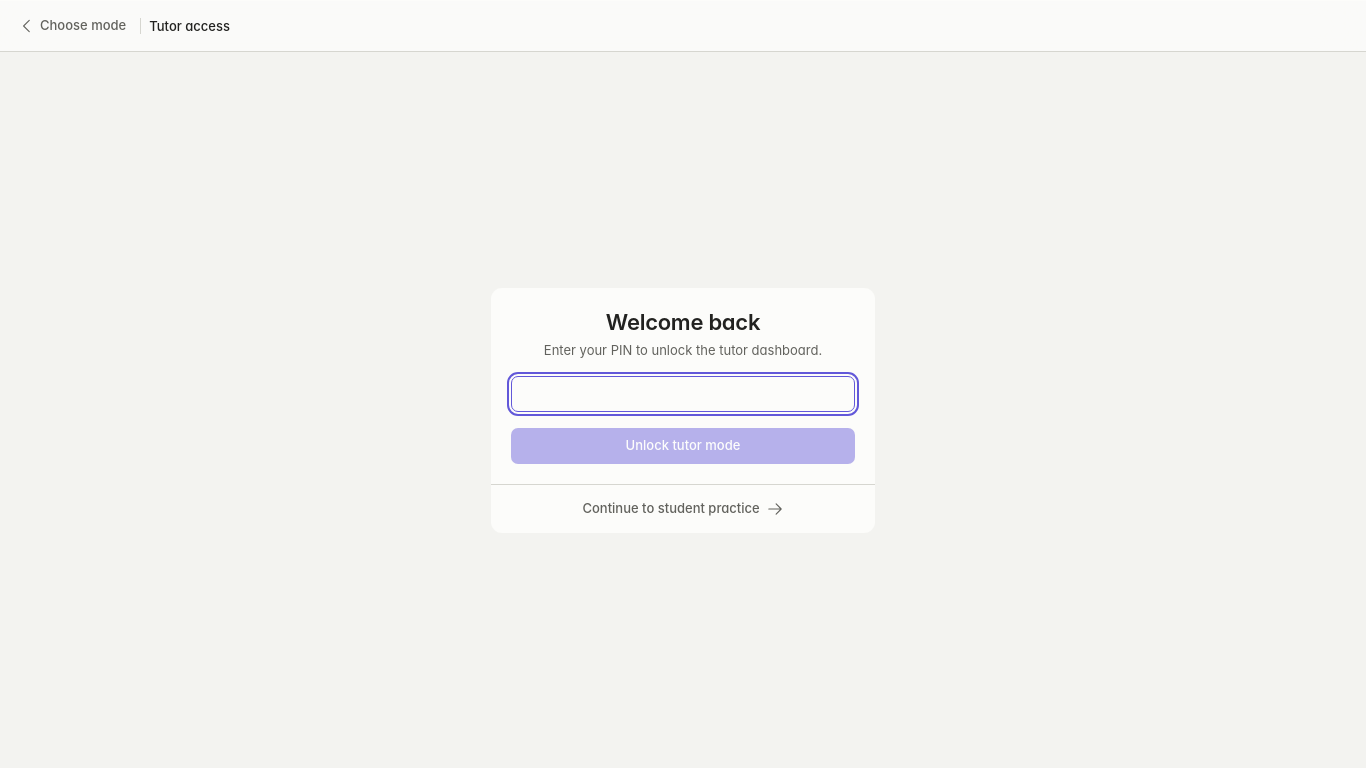
Test: UnlockScreen › when a PIN exists, shows the verify form and surfaces invalid attempts
Expected: the heading "Welcome back" is shown, [606,308,760,334]
Step 1. Type "9999" into the password field named "tutor pin" → (683, 394), box [511,376,855,412]
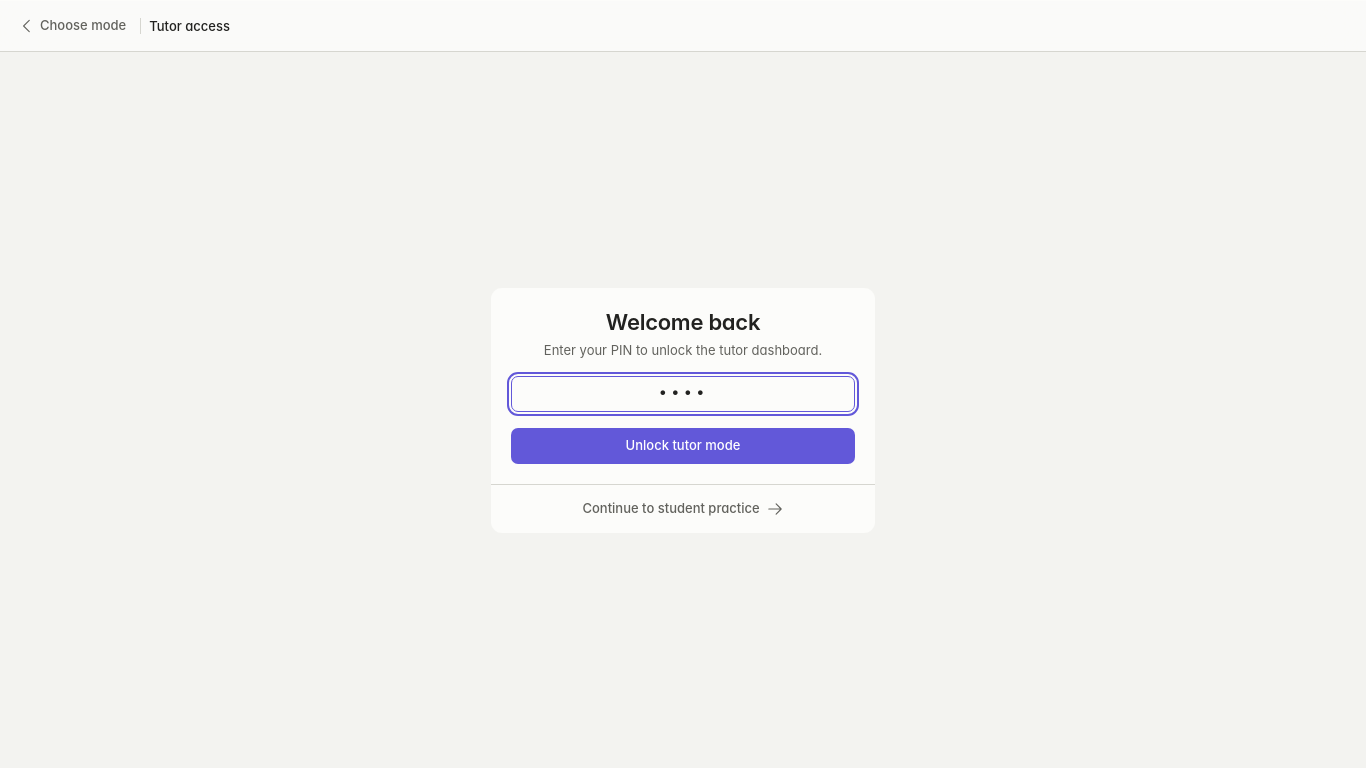
Step 2. Click the button "Unlock tutor mode" → (683, 446), box [511,428,855,464]
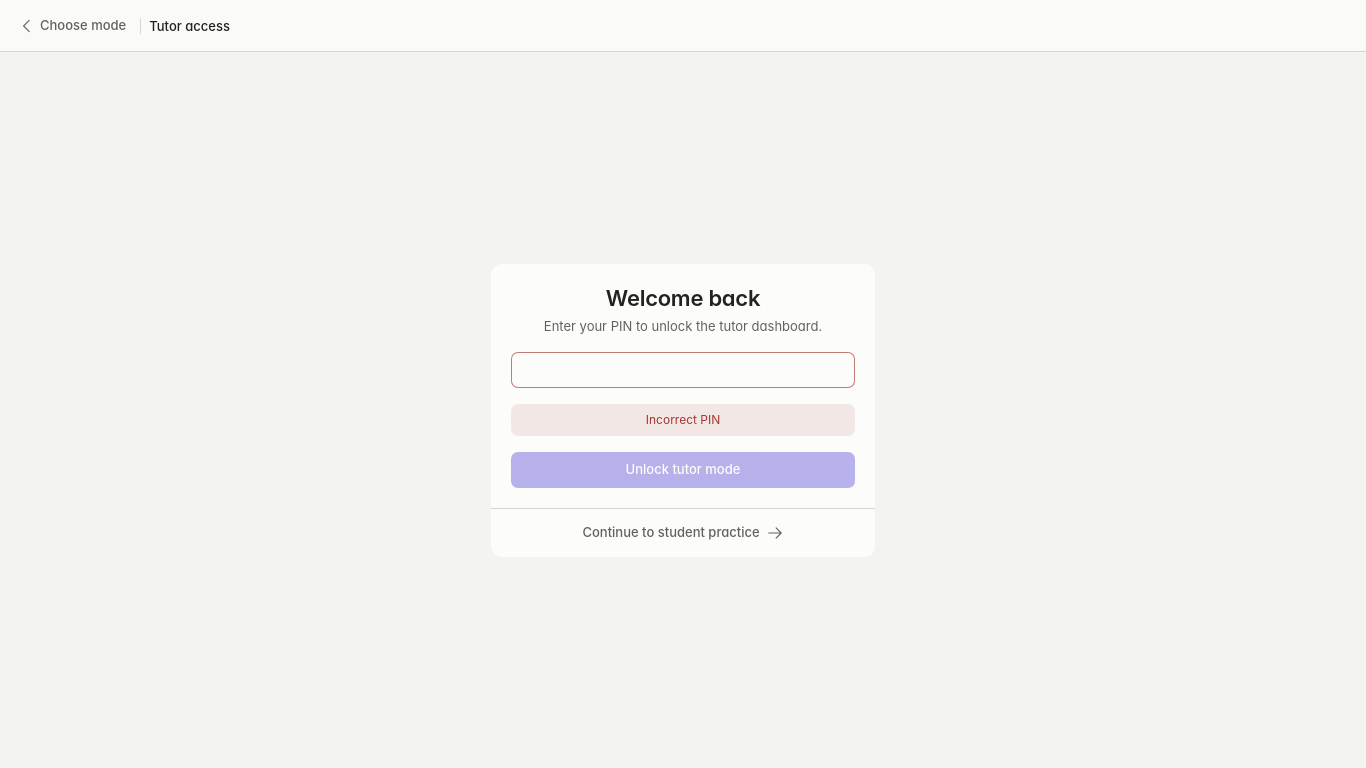
Expected: the message shows "Incorrect", [646,412,720,426]
